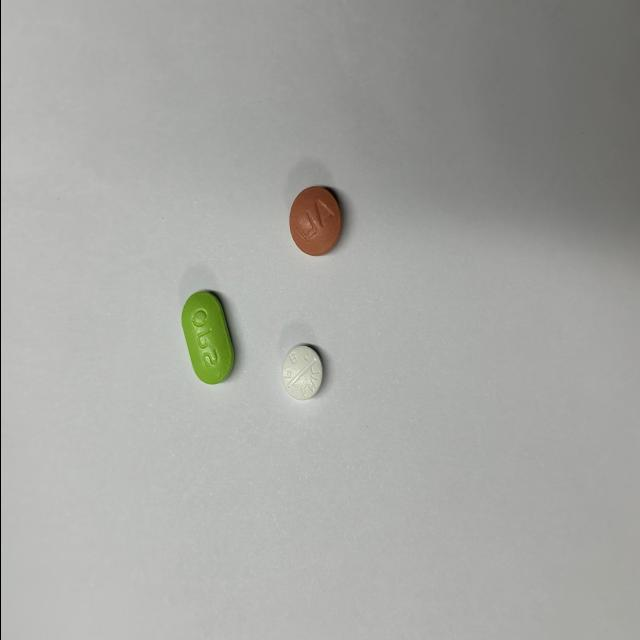Piller: (180, 292, 232, 385), (289, 187, 340, 257), (281, 345, 322, 400)
